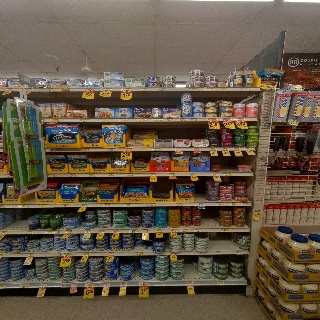All PRICE TAGS: (289, 119, 298, 125), (291, 85, 302, 89), (139, 282, 149, 286), (18, 204, 28, 208), (181, 228, 190, 232), (130, 229, 139, 233), (230, 202, 239, 206), (102, 87, 111, 91), (236, 117, 245, 121), (37, 204, 48, 207), (157, 88, 168, 91), (241, 87, 252, 90), (185, 281, 193, 285), (103, 282, 111, 286), (86, 283, 94, 287), (197, 202, 205, 206), (21, 284, 29, 288), (141, 87, 149, 91), (193, 147, 201, 151), (63, 252, 73, 255), (194, 228, 204, 231), (123, 203, 133, 206), (45, 231, 55, 234), (85, 88, 95, 91), (206, 88, 216, 91), (219, 88, 229, 91), (99, 119, 109, 122), (107, 148, 117, 151), (217, 281, 224, 285), (120, 282, 127, 286), (70, 283, 77, 287), (98, 229, 105, 233), (213, 172, 220, 176), (242, 202, 249, 206), (209, 147, 216, 151), (221, 229, 230, 232), (216, 202, 225, 205), (175, 203, 184, 206), (148, 203, 157, 206), (189, 88, 198, 91), (122, 88, 131, 91), (82, 119, 91, 122), (137, 118, 146, 121), (209, 118, 218, 121), (224, 118, 233, 121), (123, 148, 132, 151), (152, 148, 161, 151), (214, 251, 222, 254), (135, 252, 143, 255), (81, 252, 89, 255), (142, 229, 150, 232), (112, 229, 120, 232), (64, 230, 72, 233), (80, 204, 88, 207), (60, 204, 68, 207), (223, 173, 231, 176), (150, 173, 158, 176), (107, 174, 115, 177), (88, 174, 96, 177), (70, 174, 78, 177), (245, 147, 253, 150), (233, 147, 241, 150), (0, 231, 8, 234), (41, 283, 47, 287), (6, 88, 14, 91), (118, 118, 126, 121), (165, 118, 173, 121), (188, 118, 196, 121), (82, 148, 90, 151), (152, 119, 163, 121), (107, 252, 114, 255), (170, 228, 177, 231), (156, 228, 163, 231), (85, 230, 92, 233), (190, 173, 197, 176), (169, 173, 176, 176), (53, 119, 60, 122), (175, 148, 182, 151), (221, 147, 228, 150), (255, 209, 260, 213), (126, 174, 135, 176), (28, 253, 34, 256), (236, 251, 242, 254), (27, 231, 33, 234), (102, 204, 110, 206), (47, 89, 55, 91), (27, 88, 32, 91), (183, 118, 188, 121), (1, 284, 4, 288), (1, 205, 5, 208)
